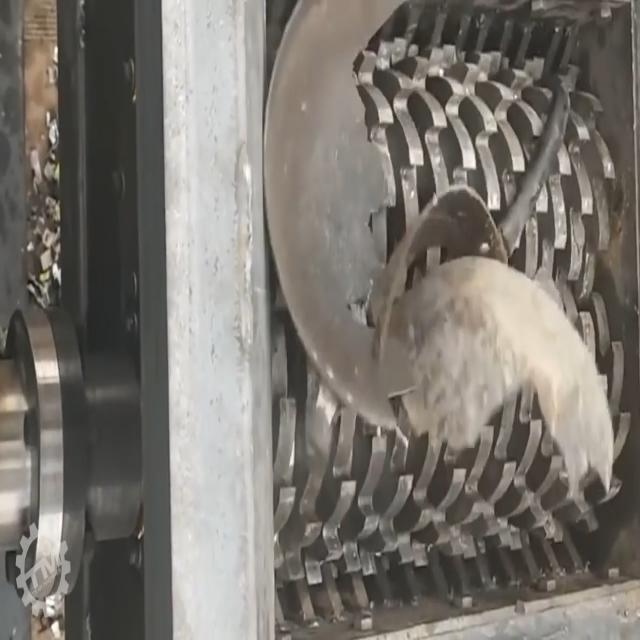Broyeur: (249, 0, 640, 640)
